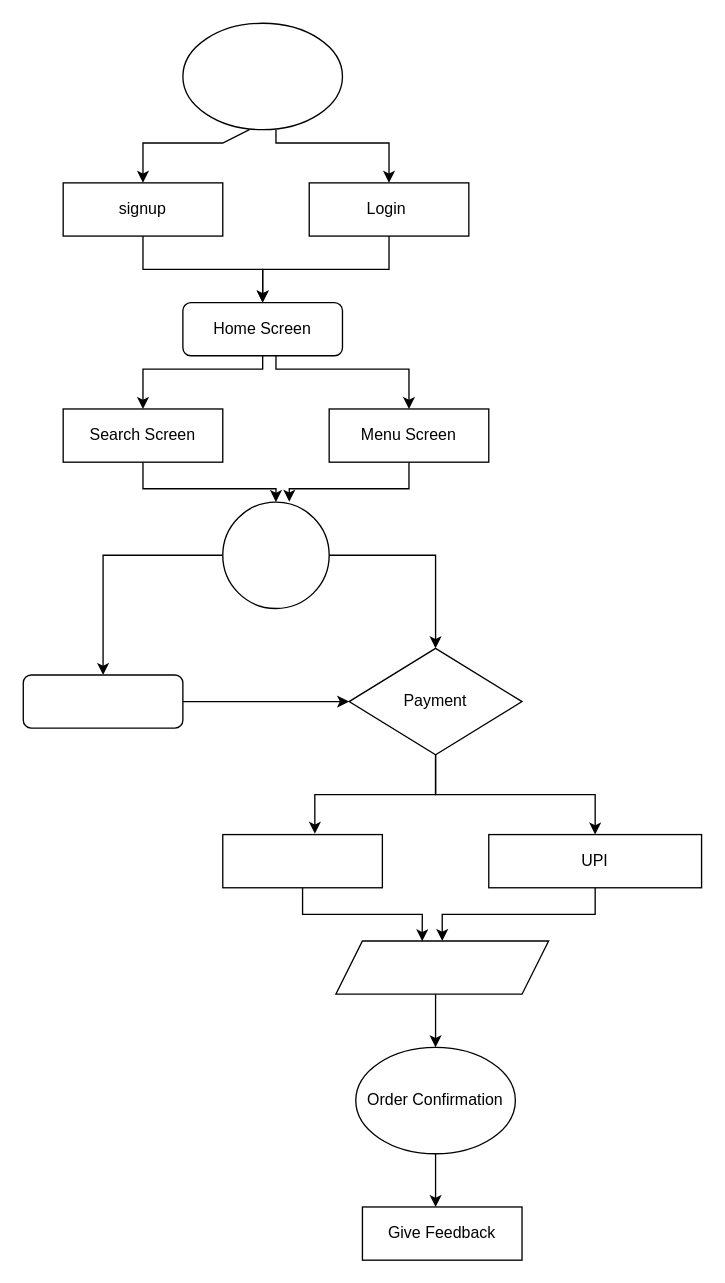
Image size: 725x1283. Some labels were removed from this diagram. Each missing label, with the box of its shape:
Add to Cart: (22, 674, 183, 728)
Cash on delivery: (221, 833, 382, 888)
Enter Payment Details: (334, 940, 549, 994)
Get Started: (182, 22, 342, 130)
Select Item: (221, 501, 329, 608)
